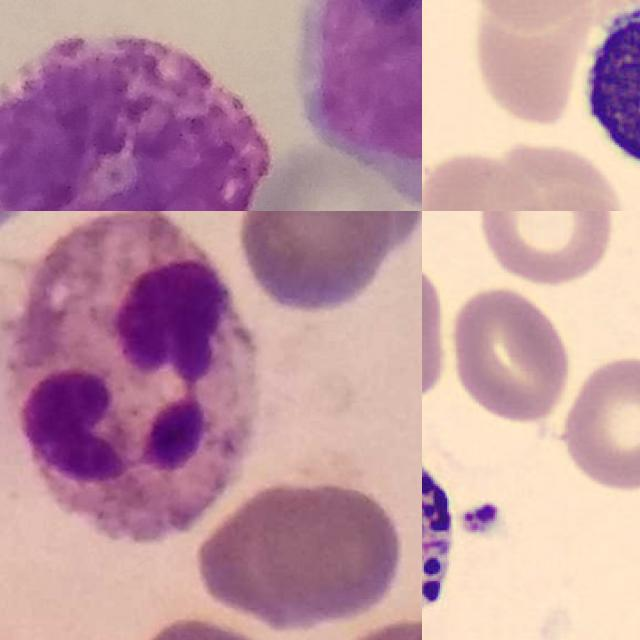Basophil: (0, 30, 268, 211)
Lymphocyte: (301, 0, 422, 211), (567, 0, 640, 196)
Neutrophil: (14, 211, 257, 541)
Platelets: (458, 496, 506, 539)
RBC: (444, 281, 575, 426), (553, 350, 640, 498), (474, 211, 616, 288), (422, 145, 551, 211), (485, 173, 640, 211), (457, 0, 627, 28), (422, 253, 451, 399)
